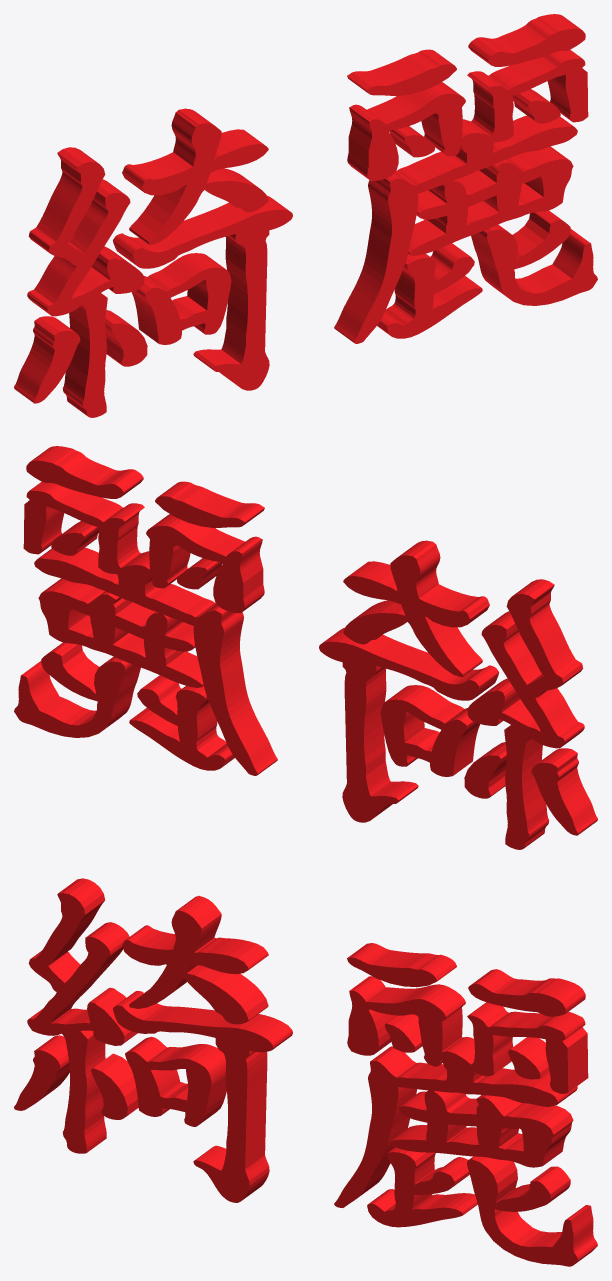
The model's file is kirei_beautiful.fbx.
3 renders of one model, top to bottom at view 1: azimuth 30°, elevation 25°; view 2: azimuth 150°, elevation 25°; view 3: azimuth 330°, elevation 25°, orthographic.
Parts seen in each view (by area): view 1: Oggetto; view 2: Oggetto; view 3: Oggetto.
Part boxes in pixels (x1=…): Oggetto: x1=14, y1=14, x2=597, y2=417; Oggetto: x1=14, y1=446, x2=597, y2=849; Oggetto: x1=14, y1=878, x2=597, y2=1266.
Bounding box in the file's own units: 32.63 × 15.71 × 2.
